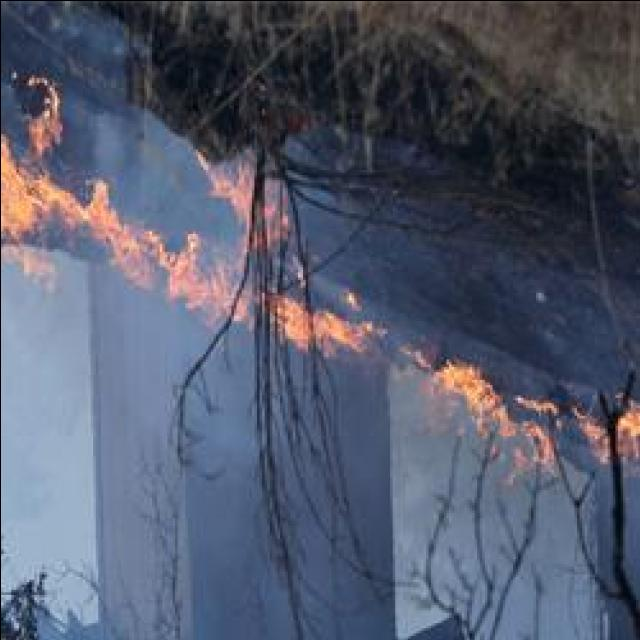fire: (276, 306, 362, 348), (0, 130, 27, 236), (434, 363, 494, 403), (610, 407, 640, 443)
smoke: (415, 454, 497, 618), (78, 99, 189, 188)
